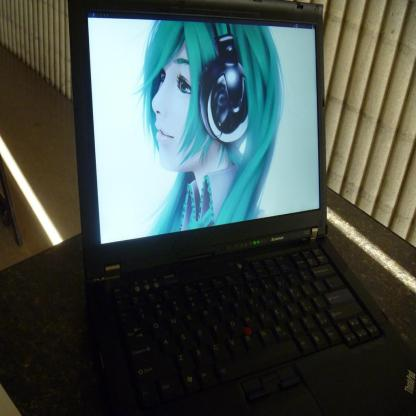board: (66, 0, 416, 415)
